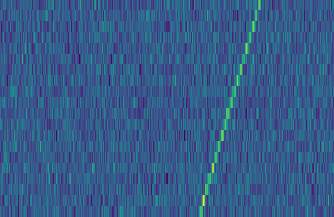signal: (196, 0, 268, 217)
